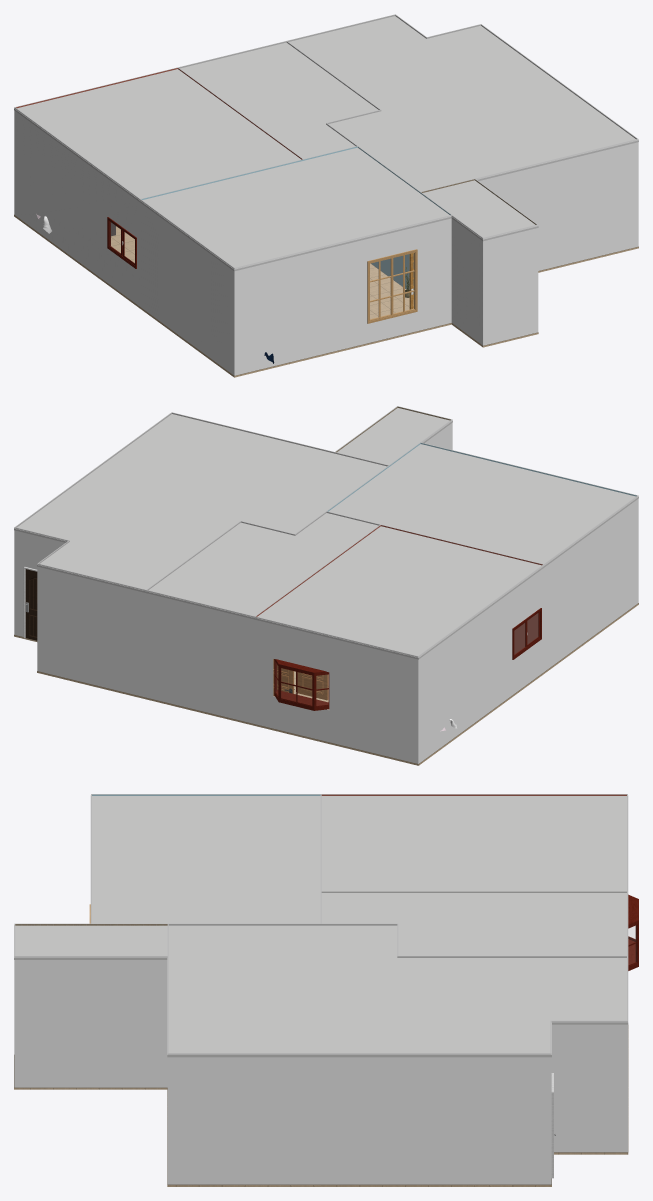
Rendered from ProcTHOR-Train-20.glb.
The picture shows the model from 3 angles, top to bottom: view 1: azimuth 30°, elevation 25°; view 2: azimuth 150°, elevation 25°; view 3: azimuth 270°, elevation 25°; orthographic projection. The views are drawn at different scales.
Parts seen in each view (by area): view 1: Ceiling#room|8|c, Ceiling#room|6|c, WallInside#wall|exterior|6.68|11.69|13.36|11.69, Ceiling#room|4|c, WallInside#wall|exterior|0.00|10.02|5.01|10.02, WallInside#wall|exterior|13.36|0.00|13.36|6.68, Ceiling#room|5|c, WallInside#wall|exterior|13.36|6.68|13.36|11.69, Ceiling#room|9|c, WallInside#wall|exterior|5.01|13.36|6.68|13.36, WallInside#wall|exterior|6.68|11.69|6.68|13.36, Ceiling#room|7|c (+5 smaller); view 2: Ceiling#room|8|c, Ceiling#room|4|c, Ceiling#room|6|c, WallInside#wall|exterior|8.35|0.00|13.36|0.00, WallInside#wall|exterior|13.36|0.00|13.36|6.68, WallInside#wall|exterior|1.67|0.00|5.01|0.00, WallInside#wall|exterior|5.01|0.00|8.35|0.00, Ceiling#room|5|c, WallInside#wall|exterior|13.36|6.68|13.36|11.69, Ceiling#room|9|c, Ceiling#room|7|c, WallInside#wall|exterior|0.00|1.67|1.67|1.67 (+6 smaller); view 3: WallInside#wall|exterior|0.00|3.34|0.00|10.02, Ceiling#room|8|c, Ceiling#room|4|c, Ceiling#room|6|c, WallInside#wall|exterior|5.01|10.02|5.01|13.36, Ceiling#room|5|c, Ceiling#room|9|c, WallInside#wall|exterior|0.00|1.67|0.00|3.34, WallInside#wall|exterior|1.67|0.00|1.67|1.67, Ceiling#room|7|c, Floor#room|8|f, Window_Bay_2 (+2 smaller).
Part boxes in pixels (x1,y1,x2,y2): Ceiling#room|8|c: (328, 48, 638, 192); Ceiling#room|6|c: (139, 147, 451, 271); WallInside#wall|exterior|6.68|11.69|13.36|11.69: (234, 215, 451, 375); Ceiling#room|4|c: (14, 69, 302, 201); WallInside#wall|exterior|0.00|10.02|5.01|10.02: (475, 139, 638, 270); WallInside#wall|exterior|13.36|0.00|13.36|6.68: (14, 107, 140, 306); Ceiling#room|5|c: (180, 42, 378, 160); WallInside#wall|exterior|13.36|6.68|13.36|11.69: (140, 199, 234, 375); Ceiling#room|9|c: (289, 16, 511, 87); WallInside#wall|exterior|5.01|13.36|6.68|13.36: (483, 225, 538, 345); WallInside#wall|exterior|6.68|11.69|6.68|13.36: (451, 215, 483, 345); Ceiling#room|7|c: (421, 180, 538, 241); Ceiling#room|8|c: (47, 414, 386, 544); Ceiling#room|4|c: (254, 526, 544, 659); Ceiling#room|6|c: (329, 444, 638, 566); WallInside#wall|exterior|8.35|0.00|13.36|0.00: (254, 616, 418, 763); WallInside#wall|exterior|13.36|0.00|13.36|6.68: (418, 564, 543, 763); WallInside#wall|exterior|1.67|0.00|5.01|0.00: (37, 563, 146, 697); WallInside#wall|exterior|5.01|0.00|8.35|0.00: (146, 590, 255, 723); Ceiling#room|5|c: (146, 513, 378, 619); WallInside#wall|exterior|13.36|6.68|13.36|11.69: (544, 495, 638, 671); Ceiling#room|9|c: (14, 505, 209, 593); Ceiling#room|7|c: (337, 408, 452, 464); WallInside#wall|exterior|0.00|1.67|1.67|1.67: (14, 527, 68, 636); WallInside#wall|exterior|0.00|3.34|0.00|10.02: (167, 1053, 474, 1184); Ceiling#room|8|c: (167, 925, 475, 1057); Ceiling#room|4|c: (320, 795, 628, 893); Ceiling#room|6|c: (90, 795, 321, 923); WallInside#wall|exterior|5.01|10.02|5.01|13.36: (14, 956, 167, 1087); Ceiling#room|5|c: (320, 893, 628, 957); Ceiling#room|9|c: (473, 958, 628, 1057); WallInside#wall|exterior|0.00|1.67|0.00|3.34: (474, 1053, 551, 1184); WallInside#wall|exterior|1.67|0.00|1.67|1.67: (551, 1021, 627, 1152); Ceiling#room|7|c: (14, 925, 167, 959); Floor#room|8|f: (167, 1088, 475, 1186); Window_Bay_2: (628, 894, 638, 970).
Size of what is drawn, in the model's own units: 13.54 by 3.21 by 13.63.
310 materials, 104 textured.
